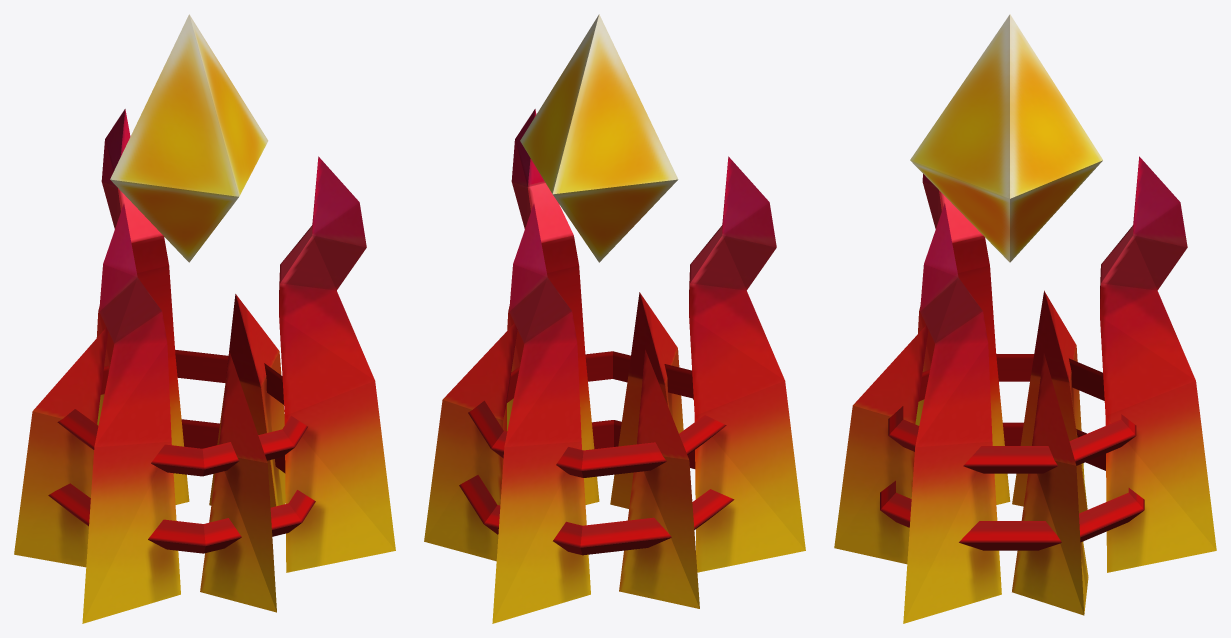
File: FlameTower.FBX
3 renders of one model, left to right at view 1: azimuth 30°, elevation 25°; view 2: azimuth 150°, elevation 25°; view 3: azimuth 270°, elevation 25°, orthographic.
Visible parts, largest first — view 1: FlameTower, crystal; view 2: FlameTower, crystal; view 3: FlameTower, crystal.
Boxes of the visible parts, x1=… form: FlameTower: x1=14, y1=109, x2=395, y2=623; crystal: x1=110, y1=14, x2=268, y2=262; FlameTower: x1=424, y1=109, x2=805, y2=623; crystal: x1=520, y1=14, x2=678, y2=262; FlameTower: x1=834, y1=156, x2=1216, y2=623; crystal: x1=910, y1=14, x2=1102, y2=262.
Bounding box in the file's own units: 88.28 × 146 × 94.34.
